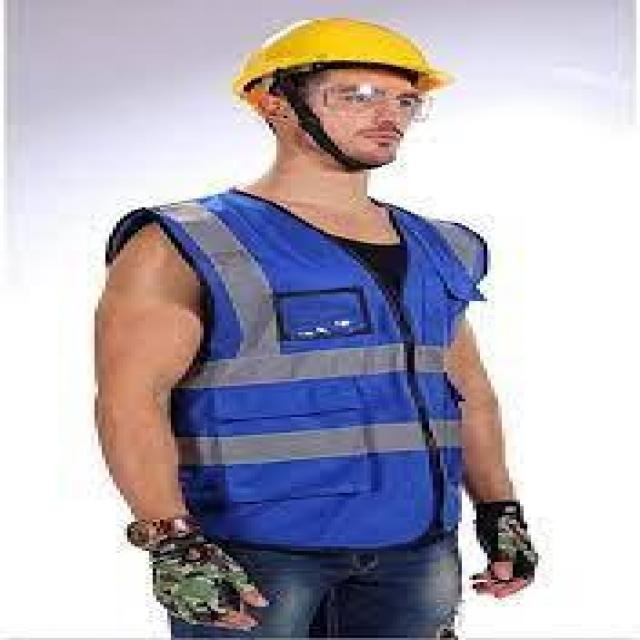Reflective-Jacket: (84, 181, 531, 555)
Safety-Helmet: (226, 11, 458, 98)
